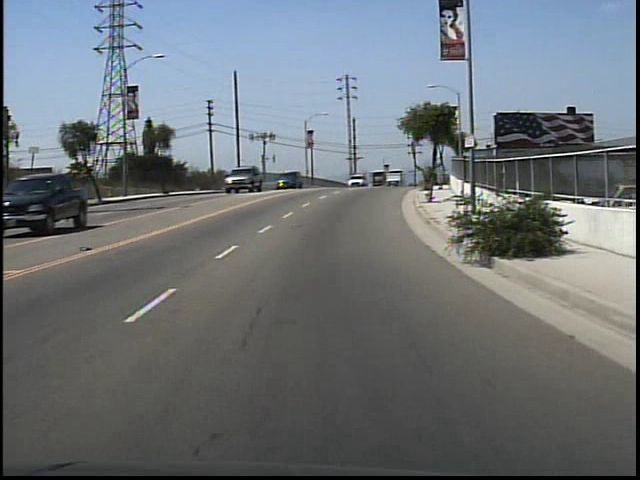person: (434, 162, 447, 192)
